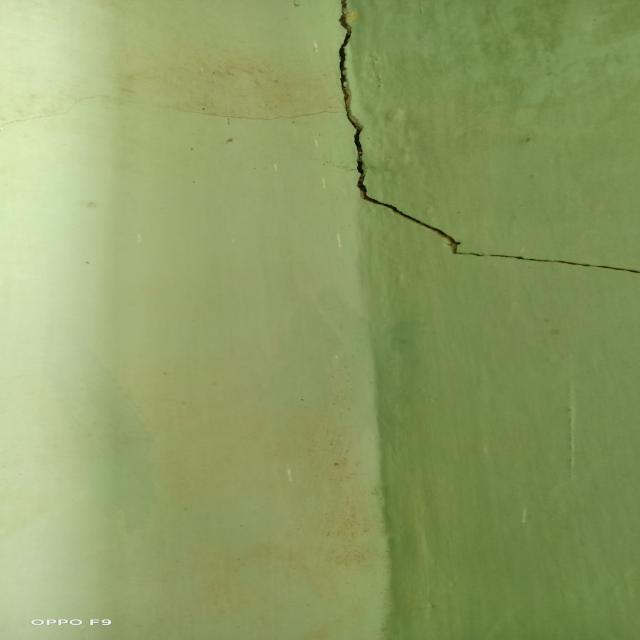Crack: (311, 116, 468, 262), (304, 2, 390, 108), (478, 248, 638, 282)
